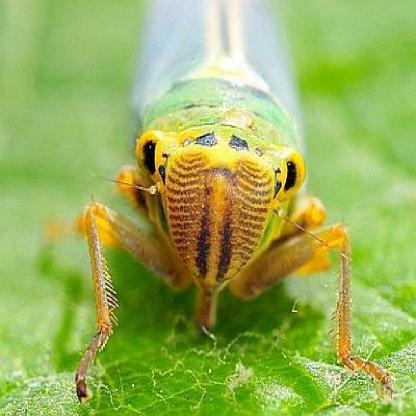Green-Leafhopper: (62, 0, 395, 411)
